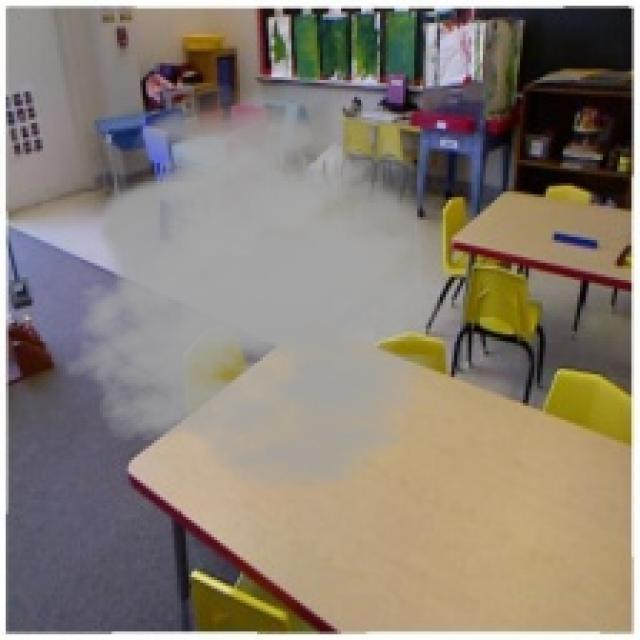Smoke: (63, 80, 486, 492)
